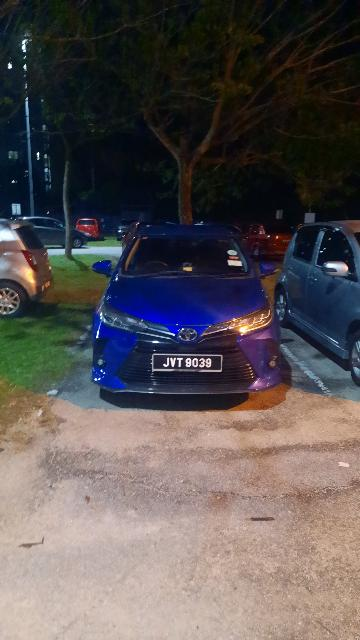License_Plate: (151, 353, 225, 375)
car: (92, 224, 286, 405)
